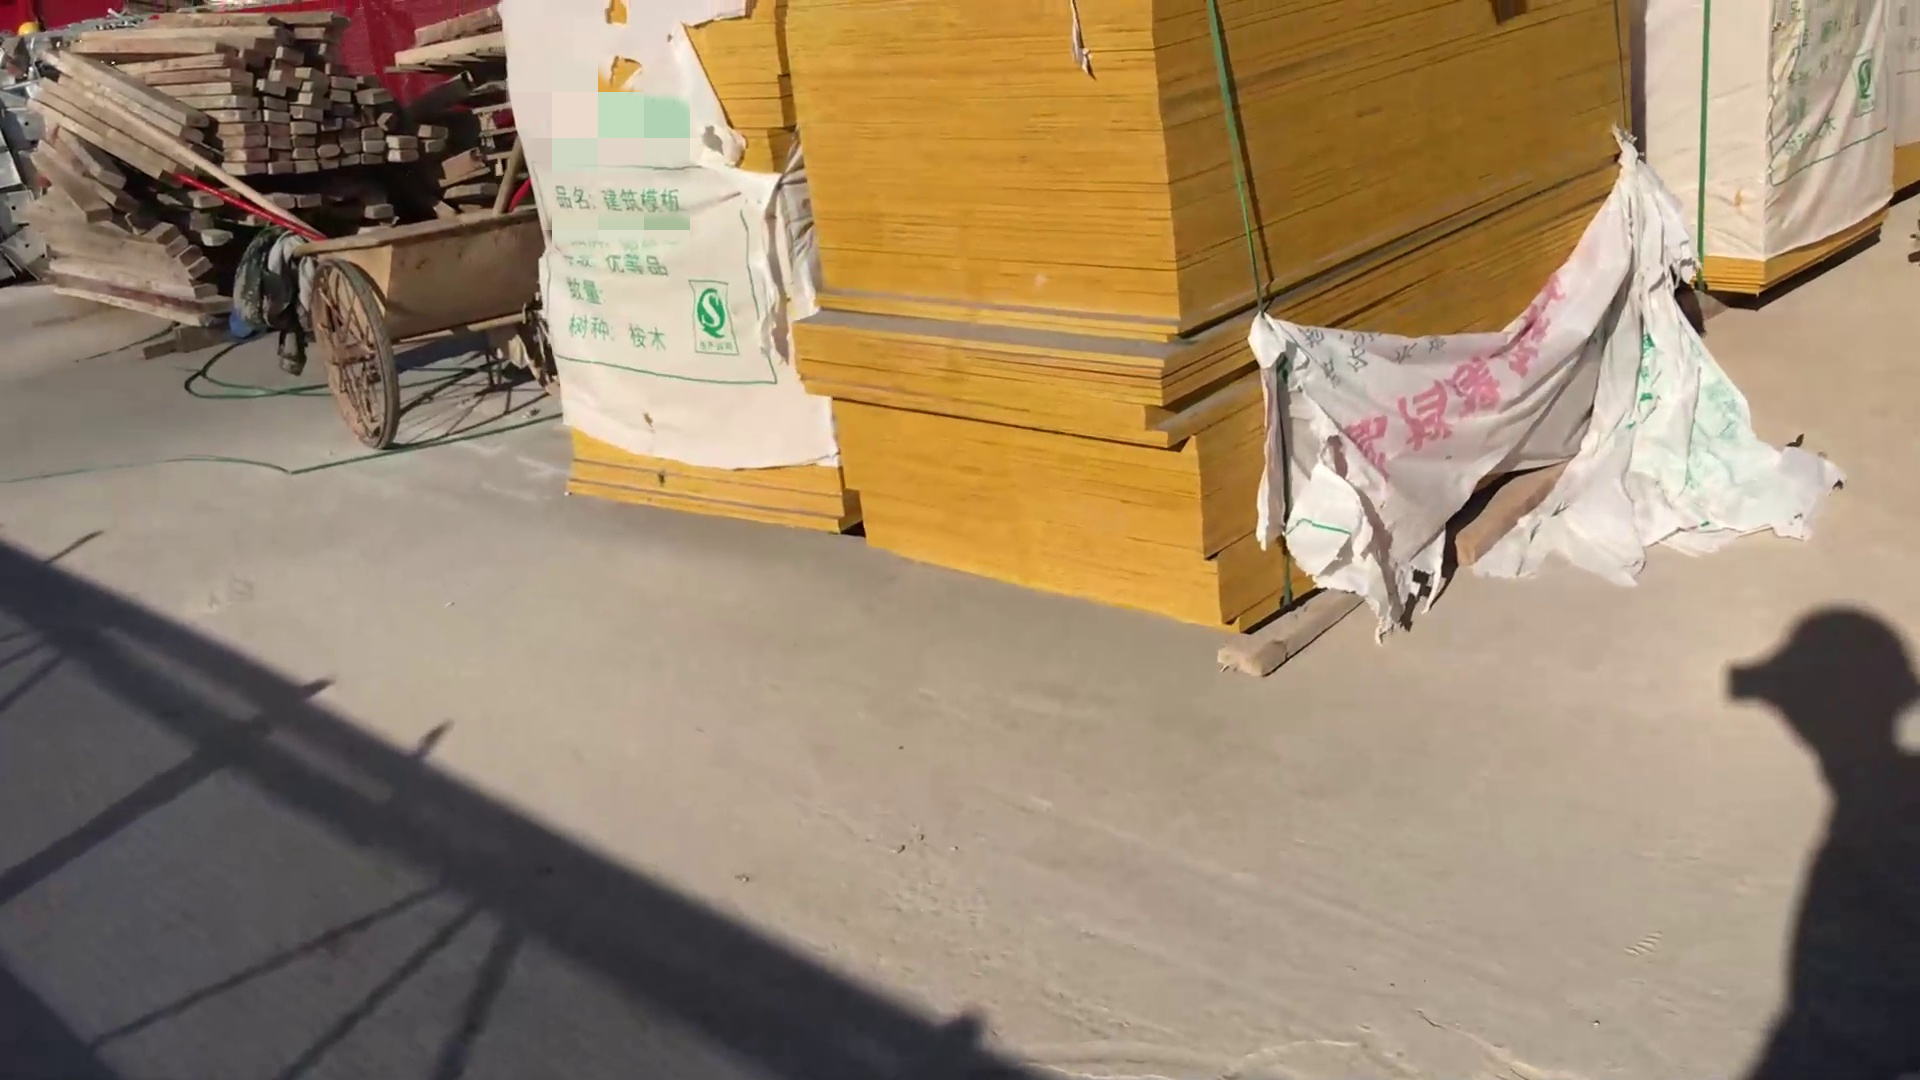board: (783, 4, 1662, 658)
handcart: (298, 224, 551, 431)
wood: (42, 18, 415, 331)
